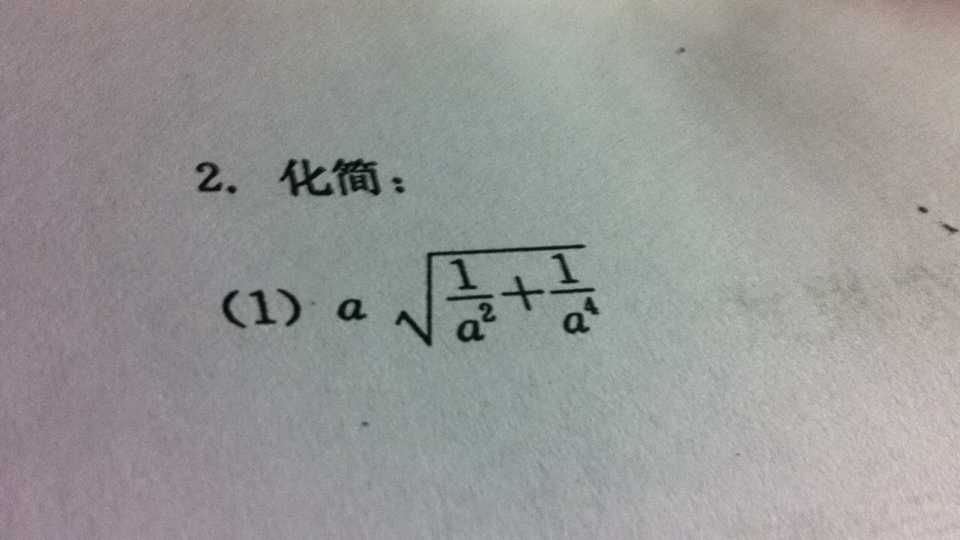division: (441, 288, 505, 304), (548, 282, 598, 299)
sqrt: (397, 242, 596, 347)
square: (475, 297, 502, 329)
